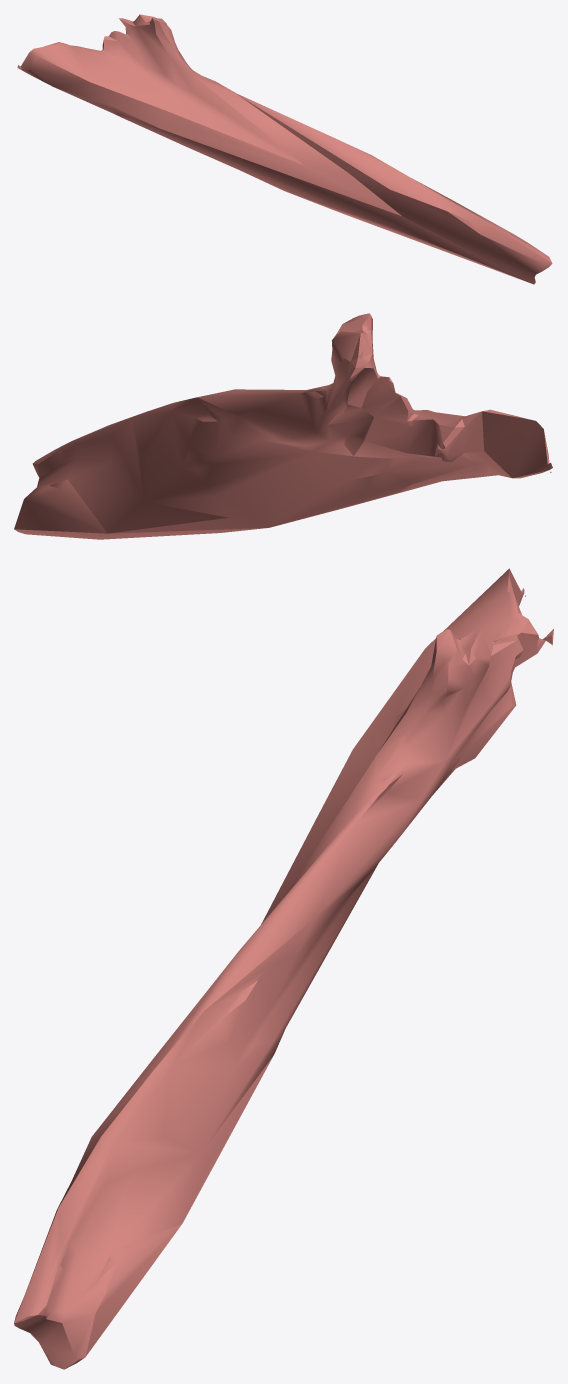
The model's file is fma37388_fj1469m.glb.
3 renders of one model, top to bottom at view 1: azimuth 30°, elevation 25°; view 2: azimuth 150°, elevation 25°; view 3: azimuth 270°, elevation 25°, orthographic. The views are drawn at different scales.
Visible parts, largest first — view 1: FMA37388_FJ1469M; view 2: FMA37388_FJ1469M; view 3: FMA37388_FJ1469M.
Boxes of the visible parts, bbox=[...] form: FMA37388_FJ1469M: bbox=[17, 14, 552, 284]; FMA37388_FJ1469M: bbox=[14, 313, 552, 539]; FMA37388_FJ1469M: bbox=[14, 568, 553, 1369].
Bounding box in the file's own units: 0.0452 × 0.0275 × 0.0279.
